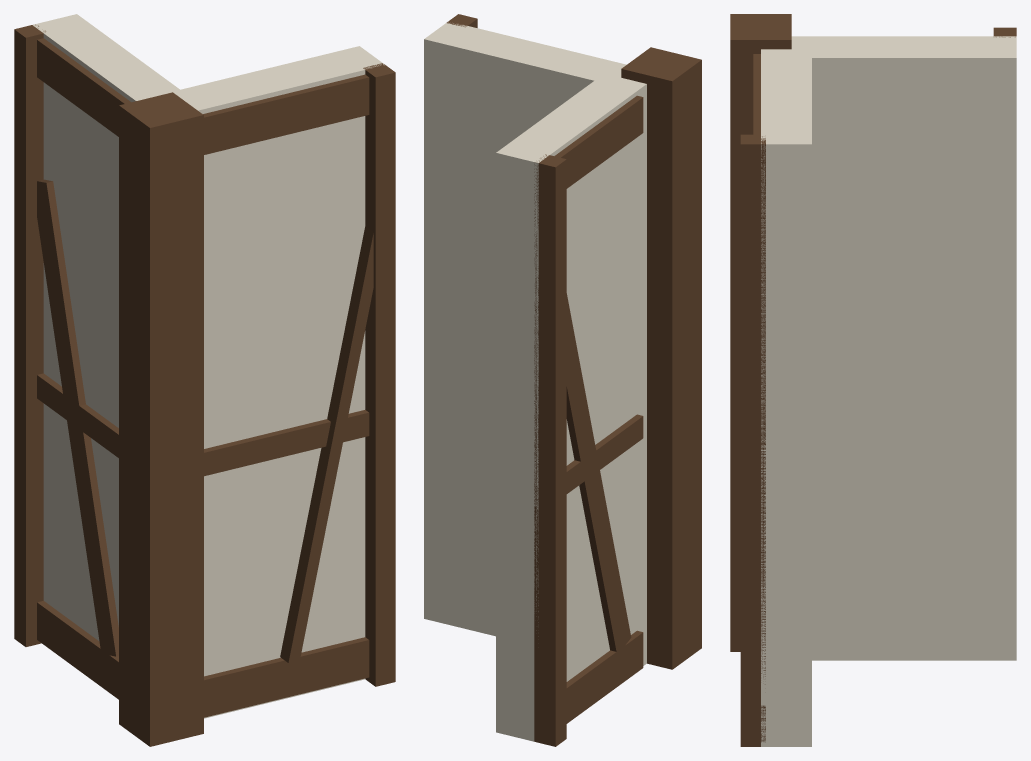
Rendered from SM_Wall_TavernFrame_02_Corner.glb.
3 renders of one model, left to right at view 1: azimuth 30°, elevation 25°; view 2: azimuth 150°, elevation 25°; view 3: azimuth 270°, elevation 25°, orthographic. The views are drawn at different scales.
Parts seen in each view (by area): view 1: SM_Wall_TavernFrame_02_Corner_PanelX, SM_Wall_TavernFrame_02_Corner_Post, SM_Wall_TavernFrame_02_Corner_PanelY, SM_Wall_TavernFrame_02_Corner_StudX_Far, SM_Wall_TavernFrame_02_Corner_StudY_Far, SM_Wall_TavernFrame_02_Corner_BraceY, SM_Wall_TavernFrame_02_Corner_BraceX, SM_Wall_TavernFrame_02_Corner_PlateX, SM_Wall_TavernFrame_02_Corner_SillX, SM_Wall_TavernFrame_02_Corner_RailX, SM_Wall_TavernFrame_02_Corner_PlateY, SM_Wall_TavernFrame_02_Corner_SillY (+1 smaller); view 2: SM_Wall_TavernFrame_02_Corner_PanelX, SM_Wall_TavernFrame_02_Corner_PanelY, SM_Wall_TavernFrame_02_Corner_Post, SM_Wall_TavernFrame_02_Corner_StudY_Far, SM_Wall_TavernFrame_02_Corner_BraceY, SM_Wall_TavernFrame_02_Corner_PlateY, SM_Wall_TavernFrame_02_Corner_SillY, SM_Wall_TavernFrame_02_Corner_RailY; view 3: SM_Wall_TavernFrame_02_Corner_PanelY, SM_Wall_TavernFrame_02_Corner_PanelX, SM_Wall_TavernFrame_02_Corner_StudX_Far, SM_Wall_TavernFrame_02_Corner_Post, SM_Wall_TavernFrame_02_Corner_PlateX.
Boxes of the visible parts, box(x1,y1,x2,y2) form: SM_Wall_TavernFrame_02_Corner_PanelX: box(136, 46, 384, 718); SM_Wall_TavernFrame_02_Corner_Post: box(119, 92, 203, 746); SM_Wall_TavernFrame_02_Corner_PanelY: box(33, 14, 179, 641); SM_Wall_TavernFrame_02_Corner_StudX_Far: box(363, 63, 395, 686); SM_Wall_TavernFrame_02_Corner_StudY_Far: box(14, 24, 45, 646); SM_Wall_TavernFrame_02_Corner_BraceY: box(37, 179, 118, 656); SM_Wall_TavernFrame_02_Corner_BraceX: box(280, 226, 373, 663); SM_Wall_TavernFrame_02_Corner_PlateX: box(203, 74, 369, 154); SM_Wall_TavernFrame_02_Corner_SillX: box(204, 637, 369, 717); SM_Wall_TavernFrame_02_Corner_RailX: box(204, 410, 369, 476); SM_Wall_TavernFrame_02_Corner_PlateY: box(37, 38, 130, 136); SM_Wall_TavernFrame_02_Corner_SillY: box(37, 600, 118, 699); SM_Wall_TavernFrame_02_Corner_PanelX: box(424, 22, 646, 665); SM_Wall_TavernFrame_02_Corner_PanelY: box(496, 81, 636, 741); SM_Wall_TavernFrame_02_Corner_Post: box(621, 47, 701, 669); SM_Wall_TavernFrame_02_Corner_StudY_Far: box(534, 154, 566, 746); SM_Wall_TavernFrame_02_Corner_BraceY: box(566, 293, 631, 651); SM_Wall_TavernFrame_02_Corner_PlateY: box(534, 95, 643, 204); SM_Wall_TavernFrame_02_Corner_SillY: box(543, 630, 643, 739); SM_Wall_TavernFrame_02_Corner_RailY: box(534, 414, 643, 510); SM_Wall_TavernFrame_02_Corner_PanelY: box(812, 36, 1016, 660); SM_Wall_TavernFrame_02_Corner_PanelX: box(761, 36, 811, 746); SM_Wall_TavernFrame_02_Corner_StudX_Far: box(740, 134, 765, 746); SM_Wall_TavernFrame_02_Corner_Post: box(730, 14, 791, 651); SM_Wall_TavernFrame_02_Corner_PlateX: box(753, 54, 765, 185).
Bounding box in the file's own units: 1.12 × 2.64 × 1.12.
